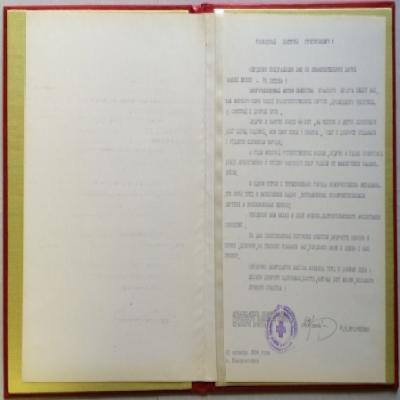document: (3, 6, 397, 396)
